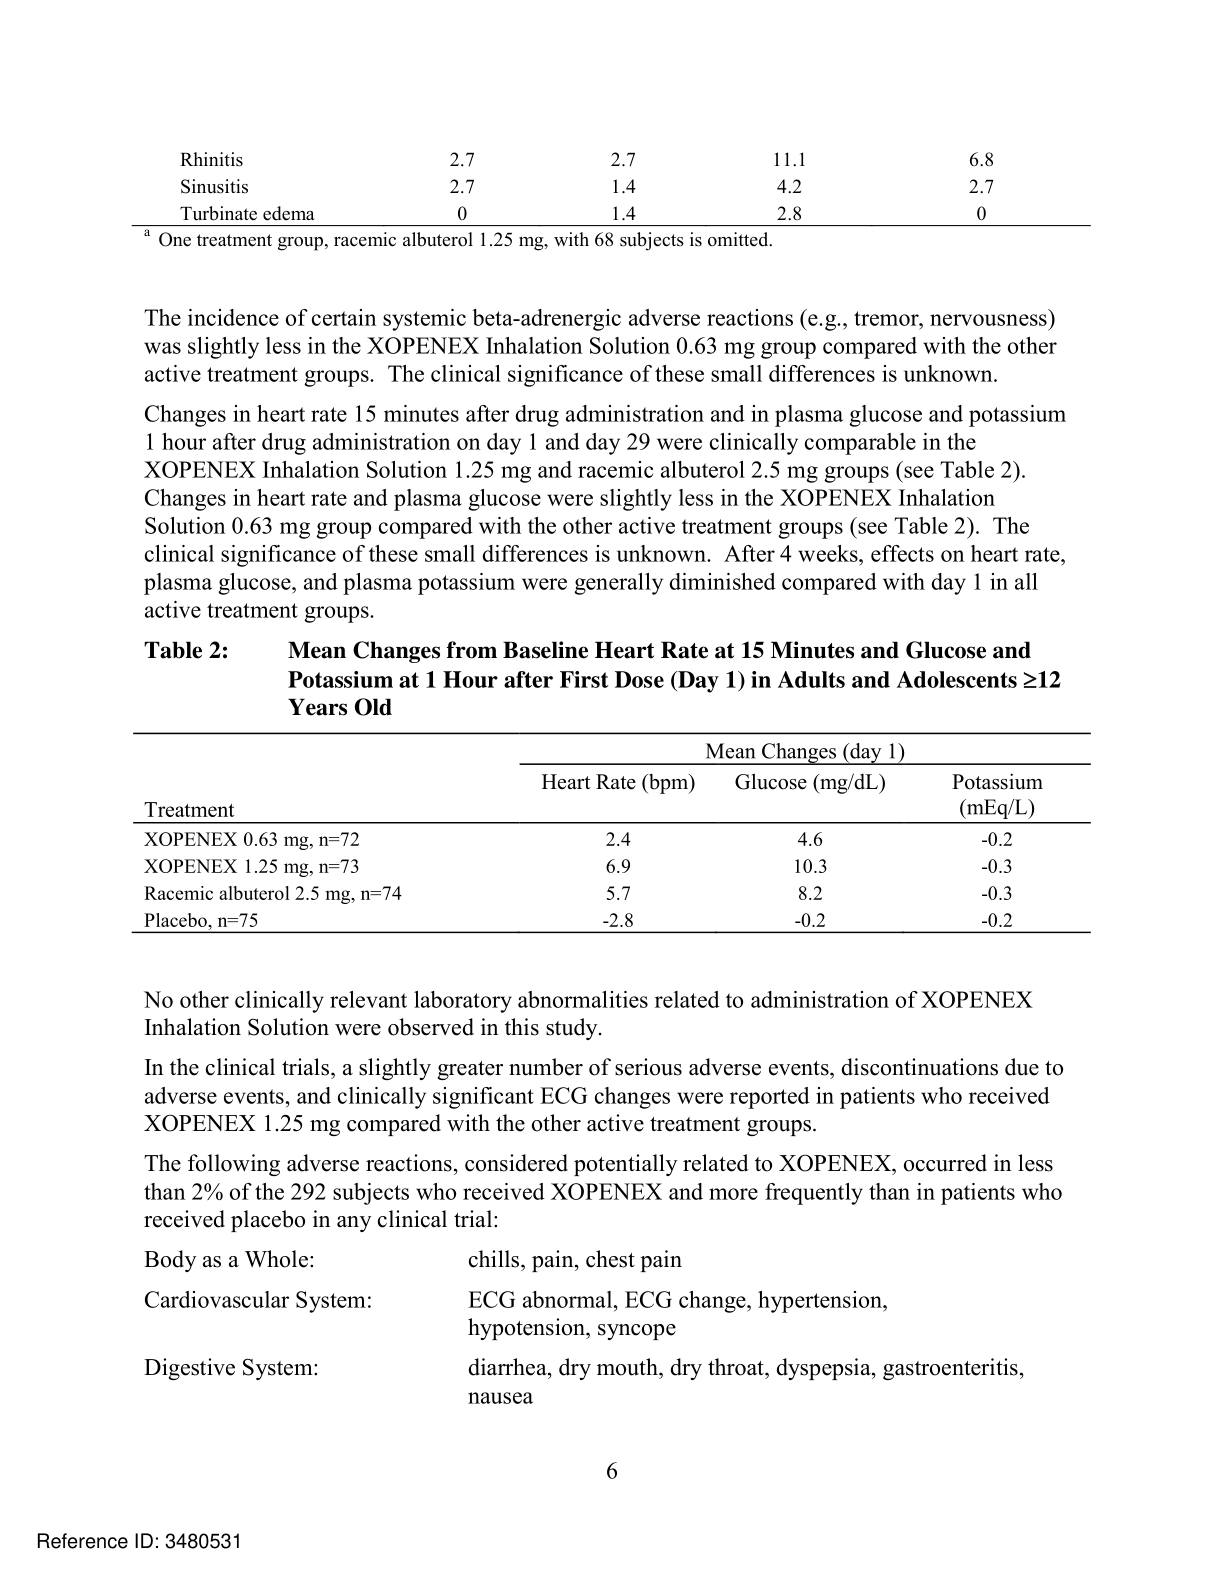nolines: (176, 144, 1005, 222)
partial_lined: (130, 732, 1093, 935)
